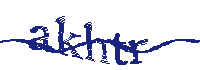a: (26, 21, 52, 52)
h: (85, 21, 110, 66)
k: (56, 17, 84, 60)
r: (129, 35, 147, 65)
t: (110, 30, 129, 66)
